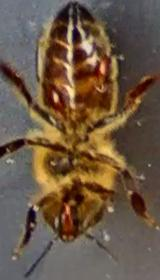varroa_mite: (39, 74, 66, 121), (86, 52, 120, 88)
